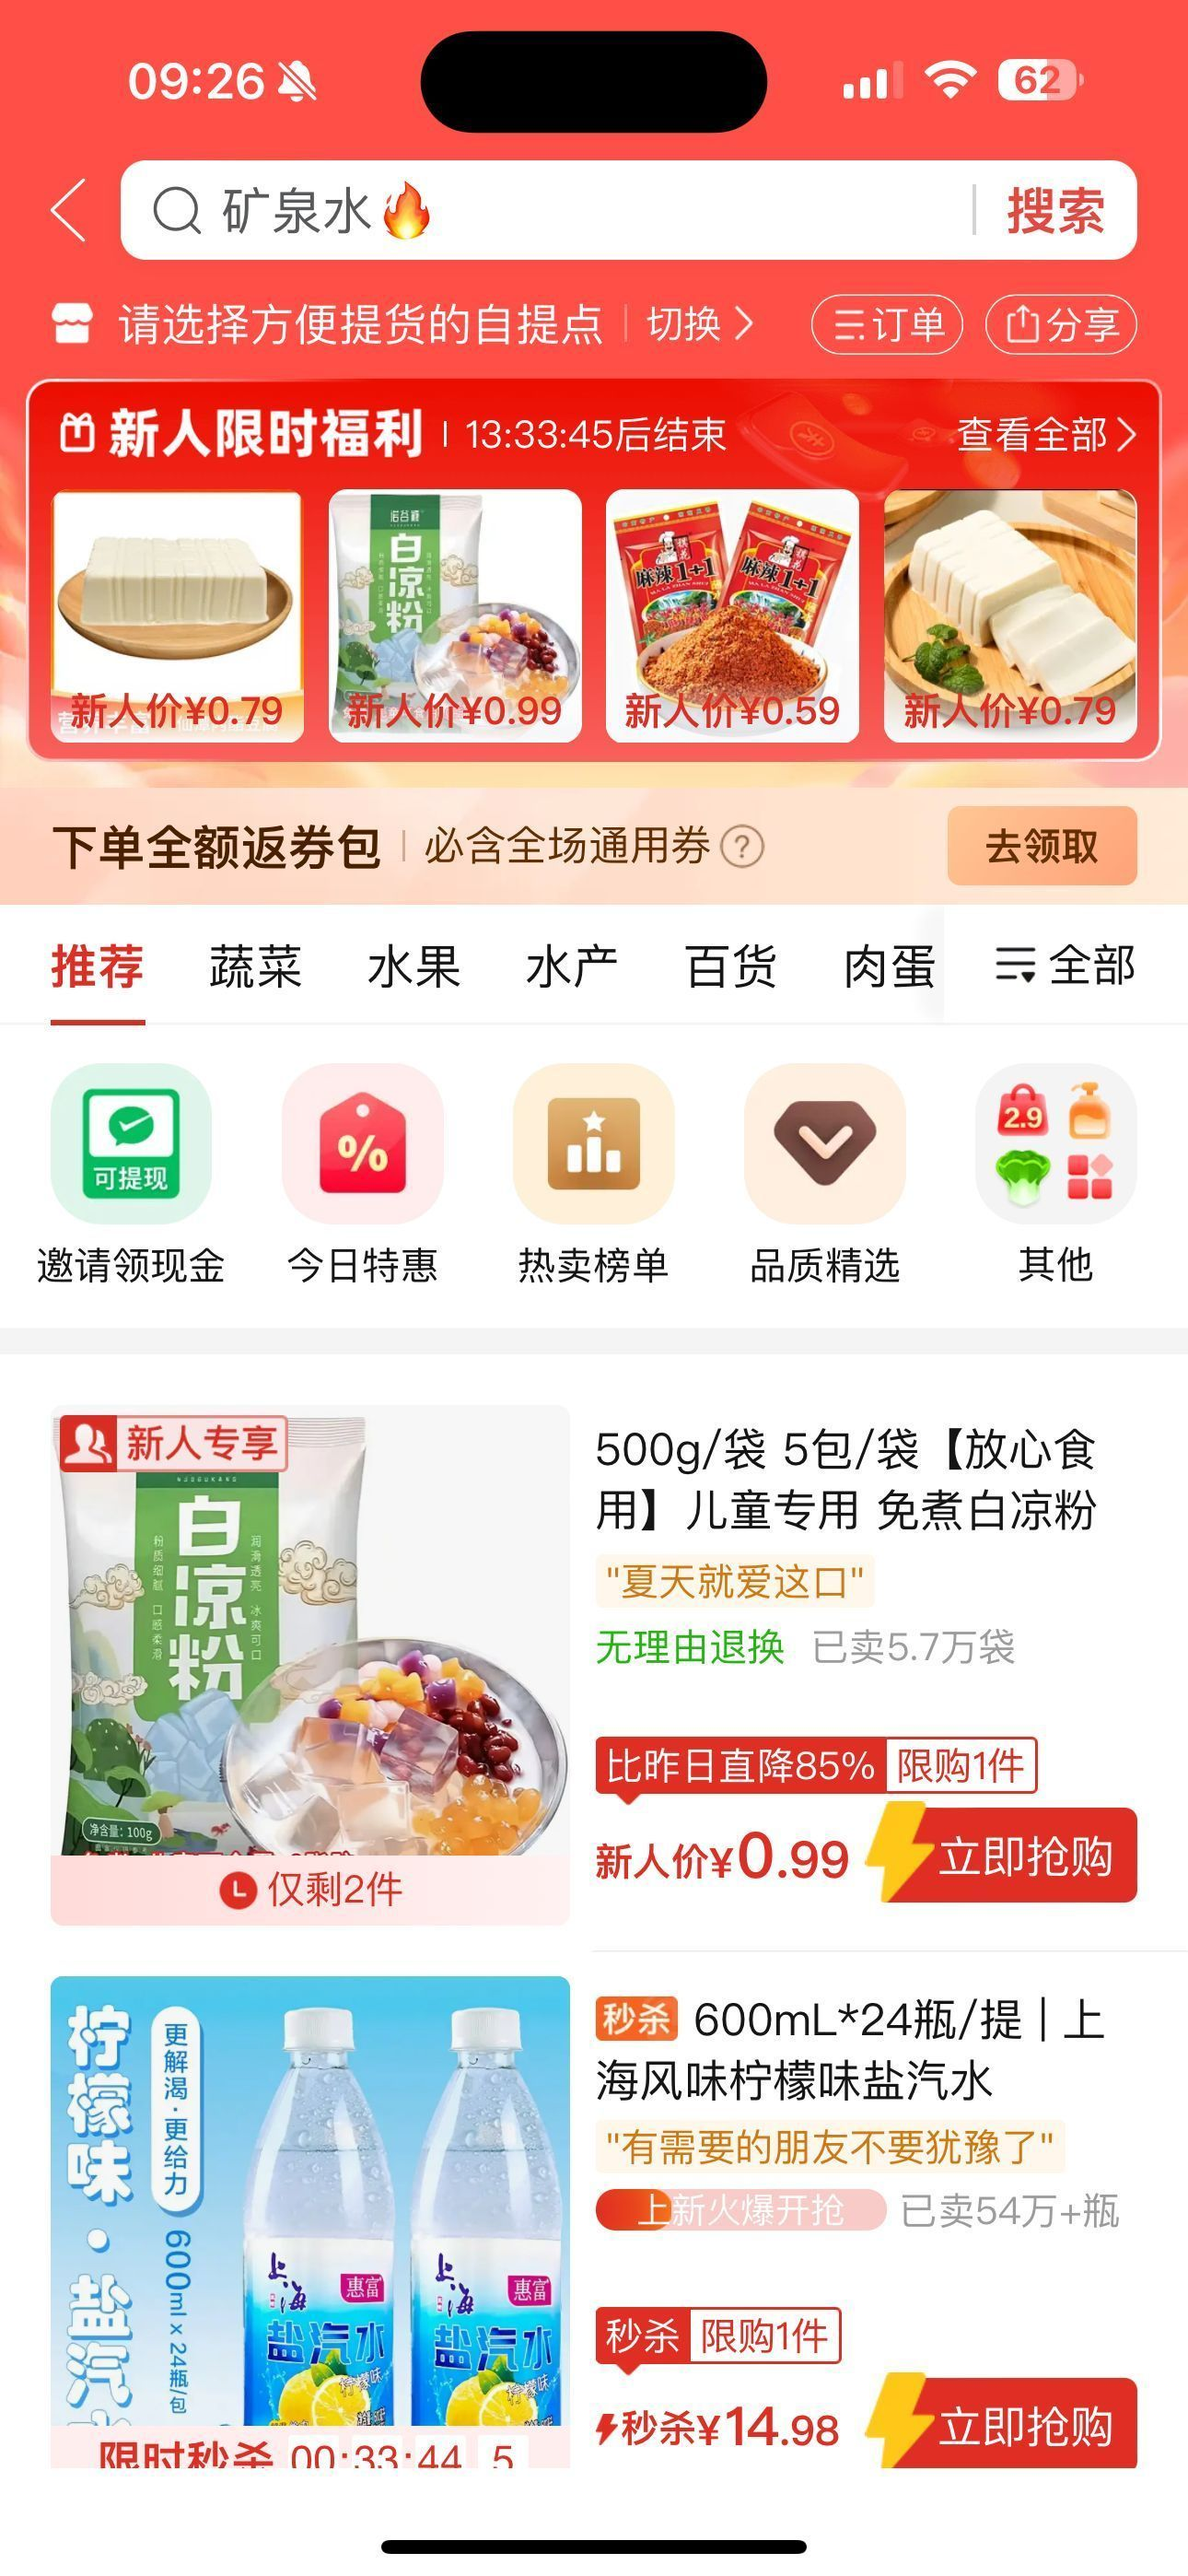banner: (10, 787, 1188, 908)
item: (2, 1940, 1185, 2576), (3, 1354, 1188, 1942)
op_bar: (7, 143, 1185, 278)
seckill: (33, 381, 1157, 764)
